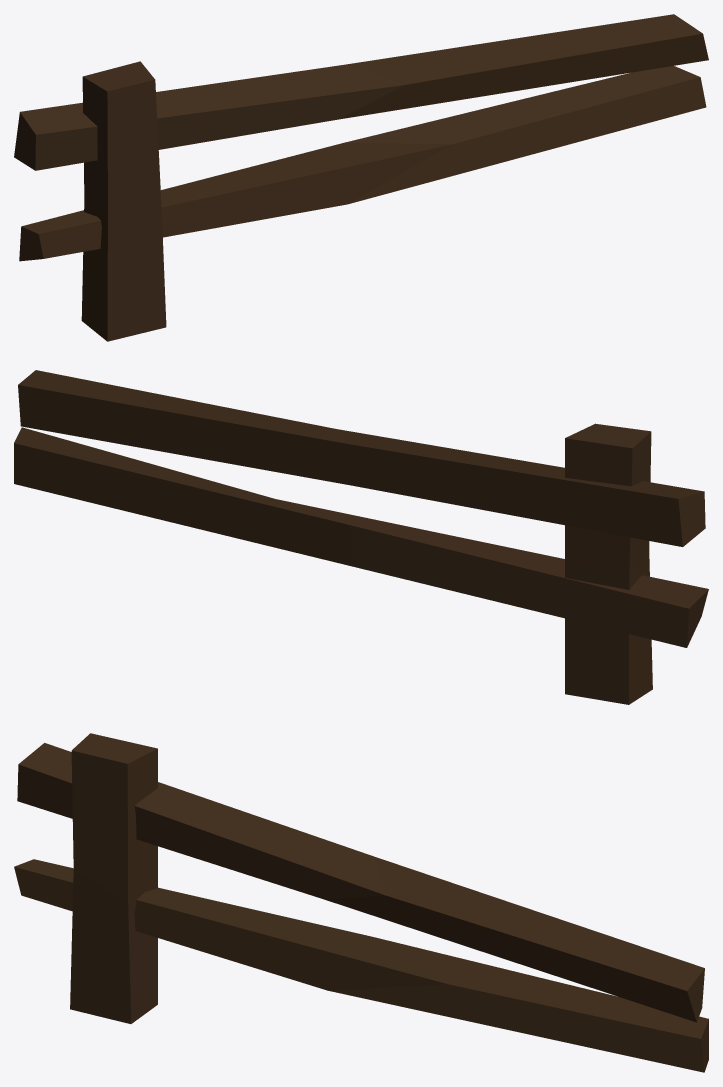
Rendered from fence_02a.fbx.
The picture shows the model from 3 angles, top to bottom: view 1: azimuth 30°, elevation 25°; view 2: azimuth 150°, elevation 25°; view 3: azimuth 330°, elevation 25°; orthographic projection. The views are drawn at different scales.
Visible parts, largest first — view 1: Cube.002, Cube.004, Cube; view 2: Cube.002, Cube.004, Cube; view 3: Cube.002, Cube.004, Cube.
Part boxes in pixels (left/top/right/bottom): Cube.002: left=14, top=14, right=708, bottom=170; Cube.004: left=19, top=66, right=706, bottom=261; Cube: left=81, top=61, right=166, bottom=341; Cube.002: left=18, top=370, right=705, bottom=546; Cube.004: left=14, top=427, right=708, bottom=647; Cube: left=565, top=423, right=652, bottom=704; Cube.002: left=17, top=743, right=704, bottom=1022; Cube.004: left=14, top=859, right=708, bottom=1072; Cube: left=70, top=733, right=157, bottom=1023.
Bounding box in the file's own units: 750 × 268 × 62.92.
